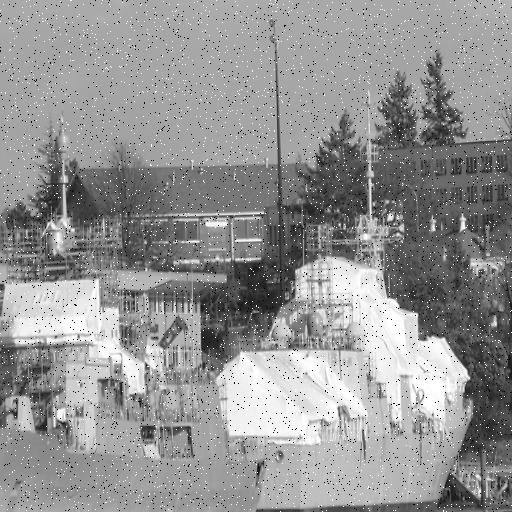Fragata: (1, 91, 270, 512)
